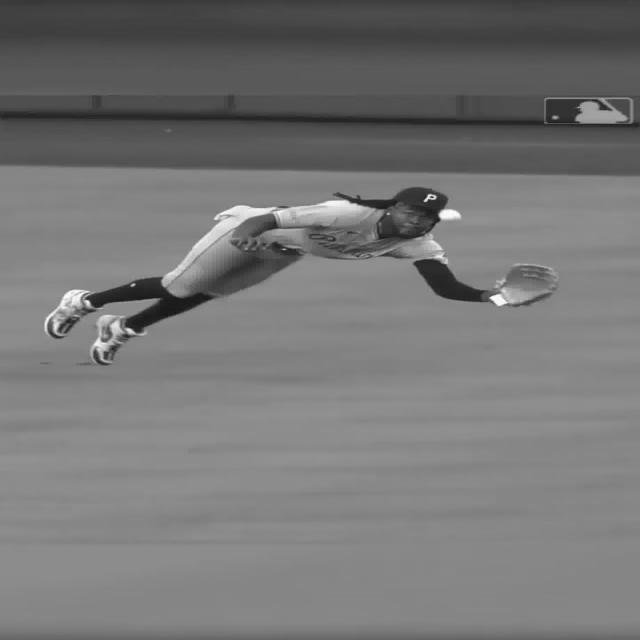baseball: (440, 210, 462, 222)
baseball_glove: (501, 264, 565, 306)
shoe: (39, 286, 99, 342), (91, 313, 146, 367)
